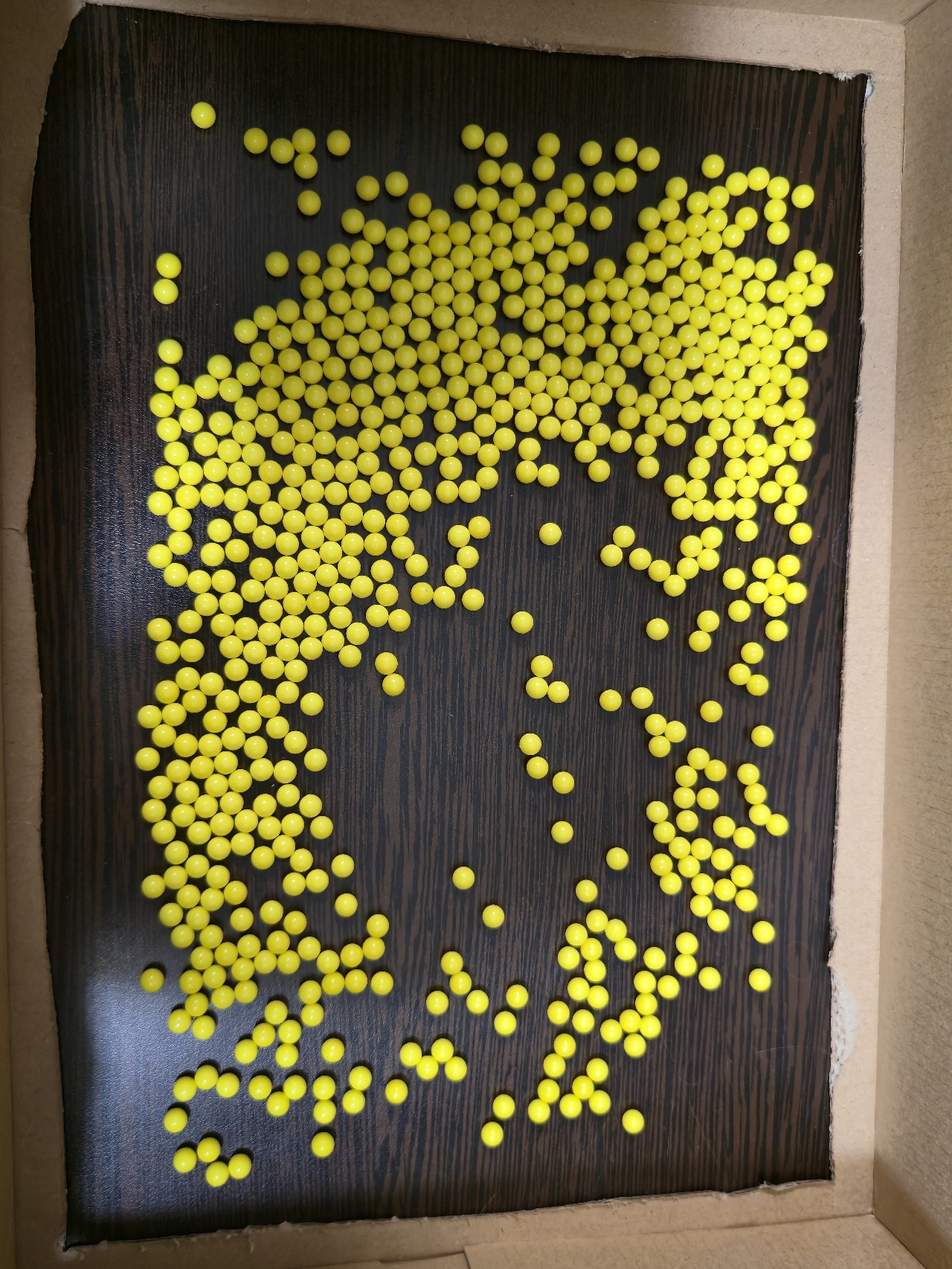yellow_bead: (199, 437, 213, 451), (153, 497, 167, 510), (184, 414, 198, 427), (279, 765, 292, 778), (206, 548, 219, 561), (170, 447, 183, 460), (213, 524, 226, 536), (173, 513, 186, 525), (206, 489, 219, 501), (184, 467, 197, 479), (260, 419, 273, 431), (214, 417, 227, 429), (200, 380, 212, 393), (160, 373, 173, 385), (213, 361, 226, 373), (237, 426, 251, 437), (754, 974, 766, 986), (200, 598, 212, 610), (218, 575, 230, 587), (234, 467, 246, 479), (730, 463, 742, 475), (209, 463, 221, 475), (223, 445, 235, 457), (810, 335, 822, 347), (628, 1115, 639, 1128), (564, 952, 575, 965), (170, 568, 183, 579), (797, 190, 808, 203), (173, 537, 187, 547), (704, 972, 715, 984), (649, 952, 660, 964), (759, 926, 770, 938), (713, 915, 724, 927), (337, 860, 349, 871), (305, 800, 316, 812), (306, 698, 318, 709), (193, 576, 205, 587), (635, 553, 646, 565), (741, 525, 753, 536), (230, 493, 241, 505), (181, 490, 193, 501), (765, 486, 776, 498), (317, 464, 329, 475), (248, 449, 260, 460), (240, 402, 251, 414), (816, 269, 828, 280), (579, 1015, 589, 1028), (794, 528, 807, 538), (472, 995, 483, 1006), (571, 929, 582, 940), (458, 873, 469, 884), (717, 854, 728, 865), (612, 853, 623, 864), (652, 806, 663, 817), (734, 605, 745, 616), (758, 563, 769, 574), (454, 530, 465, 541), (545, 528, 556, 539), (791, 489, 802, 500), (782, 470, 793, 481), (701, 441, 712, 452), (714, 423, 725, 434), (754, 370, 765, 381), (243, 368, 254, 379), (800, 255, 811, 266), (681, 938, 693, 948), (592, 915, 602, 927), (489, 910, 499, 922), (582, 885, 592, 897), (740, 832, 750, 844), (557, 826, 567, 838), (194, 826, 204, 838), (283, 789, 295, 799), (728, 574, 740, 584), (780, 509, 792, 519), (306, 485, 318, 495), (773, 286, 783, 298), (239, 515, 252, 524), (500, 1017, 511, 1027), (681, 961, 692, 971), (303, 942, 314, 952), (698, 879, 708, 890), (697, 844, 707, 855), (720, 821, 730, 832), (743, 769, 754, 779), (525, 739, 536, 749), (637, 693, 648, 703), (537, 661, 547, 672), (652, 624, 663, 634), (770, 601, 781, 611), (704, 554, 714, 565), (606, 550, 617, 560), (686, 541, 697, 551), (619, 531, 629, 542), (289, 515, 300, 525), (742, 482, 753, 492), (693, 463, 704, 473), (643, 462, 654, 472), (446, 462, 457, 472), (771, 449, 781, 460), (524, 443, 535, 453), (800, 423, 810, 434), (739, 423, 750, 433), (545, 422, 555, 433), (521, 415, 532, 425), (585, 408, 596, 418), (750, 403, 760, 414), (708, 402, 718, 413), (739, 384, 750, 394), (240, 326, 250, 337), (810, 290, 820, 301), (163, 284, 173, 295), (740, 263, 750, 274), (773, 182, 784, 192), (312, 875, 324, 884), (289, 736, 301, 745), (281, 643, 293, 652), (306, 643, 318, 652), (153, 623, 165, 632), (335, 611, 347, 620), (335, 588, 347, 597), (153, 553, 165, 562), (283, 492, 295, 501), (253, 486, 265, 495), (640, 440, 652, 449), (576, 983, 584, 996), (271, 722, 284, 730), (258, 531, 271, 539), (621, 945, 631, 955), (297, 854, 307, 864), (216, 818, 226, 828), (755, 810, 765, 820), (682, 771, 692, 781), (748, 648, 758, 658), (518, 617, 528, 627), (704, 616, 714, 626), (792, 588, 802, 598), (753, 588, 763, 598), (707, 533, 717, 543), (741, 504, 751, 514), (377, 477, 387, 487), (160, 472, 170, 482), (753, 462, 763, 472), (752, 440, 762, 450), (320, 437, 330, 447), (595, 428, 605, 438), (567, 425, 577, 435), (462, 403, 472, 413), (561, 402, 571, 412), (719, 383, 729, 393), (732, 178, 742, 188), (356, 1074, 365, 1085), (666, 981, 675, 992), (236, 913, 247, 922), (696, 902, 707, 911), (744, 895, 753, 906), (289, 878, 300, 887), (739, 870, 748, 881), (192, 860, 203, 869), (683, 815, 692, 826), (228, 733, 239, 742), (672, 726, 681, 737), (345, 650, 356, 659), (352, 628, 363, 637), (241, 623, 252, 632), (672, 580, 681, 591), (684, 563, 693, 574), (700, 505, 709, 516), (721, 504, 730, 515), (415, 494, 426, 503), (363, 457, 374, 466), (420, 448, 431, 457), (797, 445, 806, 456), (730, 403, 739, 414), (168, 345, 177, 356), (758, 330, 767, 341), (798, 321, 807, 332), (773, 312, 782, 323), (792, 277, 803, 286), (753, 173, 764, 182), (597, 1097, 605, 1109), (440, 1044, 448, 1056), (322, 956, 334, 964), (213, 843, 225, 851), (278, 841, 290, 849), (237, 838, 249, 846), (259, 800, 271, 808), (256, 764, 268, 772), (282, 687, 294, 695), (290, 665, 302, 673), (187, 644, 199, 652), (225, 597, 237, 605), (344, 562, 356, 570), (303, 554, 315, 562), (282, 538, 294, 546), (307, 531, 319, 539), (244, 686, 257, 693), (166, 908, 176, 917), (666, 880, 676, 889), (676, 842, 685, 852), (659, 827, 669, 836), (288, 819, 298, 828), (679, 794, 689, 803), (559, 777, 569, 786), (759, 731, 768, 741), (652, 719, 661, 729), (469, 594, 479, 603), (440, 591, 450, 600), (678, 504, 688, 513), (331, 487, 341, 496), (672, 481, 681, 491), (544, 469, 554, 478), (581, 446, 591, 455), (731, 442, 740, 452), (442, 439, 452, 448), (617, 436, 626, 446), (387, 430, 397, 439), (770, 411, 779, 421), (284, 405, 294, 414), (515, 392, 525, 401), (547, 359, 556, 369), (746, 350, 755, 360), (705, 337, 714, 347), (738, 324, 747, 334), (753, 309, 762, 319), (750, 286, 760, 295), (762, 264, 771, 274), (730, 230, 739, 240), (771, 205, 781, 214), (606, 1029, 617, 1037), (613, 925, 621, 936), (266, 906, 277, 914), (341, 899, 352, 907), (316, 821, 327, 829), (240, 815, 251, 823), (221, 756, 232, 764), (310, 754, 321, 762), (226, 641, 237, 649), (372, 610, 383, 618), (483, 420, 491, 431), (577, 385, 585, 396), (700, 378, 708, 389), (210, 780, 222, 787), (205, 678, 217, 685), (286, 621, 298, 628), (594, 1064, 603, 1073), (201, 800, 210, 809), (184, 672, 193, 681), (736, 669, 745, 678), (773, 626, 782, 635), (466, 486, 475, 495), (356, 485, 365, 494), (343, 466, 352, 475), (366, 434, 375, 443), (791, 405, 800, 414), (538, 399, 547, 408), (598, 388, 607, 397), (794, 382, 803, 391), (715, 192, 724, 201), (536, 1107, 544, 1117), (408, 1050, 416, 1060), (170, 846, 180, 854), (183, 786, 193, 794), (533, 762, 543, 770), (655, 742, 665, 750), (205, 739, 215, 747), (244, 716, 254, 724), (144, 710, 154, 718), (311, 620, 321, 628), (218, 619, 228, 627), (395, 614, 405, 622), (299, 577, 309, 585), (655, 565, 665, 573), (412, 560, 422, 568), (398, 542, 408, 550), (348, 539, 358, 547), (347, 508, 357, 516), (393, 495, 403, 503), (693, 485, 701, 495), (483, 472, 493, 480), (689, 406, 697, 416), (500, 405, 508, 415), (726, 343, 734, 353), (260, 312, 270, 320), (596, 991, 603, 1002), (379, 977, 386, 988), (776, 820, 783, 831), (141, 753, 152, 760), (695, 636, 706, 643), (265, 605, 276, 612), (356, 581, 367, 588), (686, 330, 693, 341), (164, 259, 171, 270), (201, 1026, 210, 1034), (274, 1010, 282, 1019), (437, 996, 443, 1008), (593, 967, 601, 976), (148, 880, 156, 889), (170, 873, 179, 881), (214, 870, 223, 878), (265, 823, 274, 831), (155, 781, 164, 789), (237, 774, 245, 783), (695, 754, 704, 762), (169, 708, 178, 716), (607, 695, 616, 703), (407, 473, 416, 481), (502, 434, 510, 443), (390, 401, 398, 410), (644, 399, 652, 408), (768, 389, 776, 398), (681, 385, 689, 394), (382, 379, 390, 388), (501, 377, 509, 386), (591, 367, 599, 376), (516, 361, 524, 370), (729, 280, 737, 289), (648, 1023, 655, 1033), (206, 895, 216, 902), (688, 862, 695, 872), (158, 826, 168, 833), (178, 810, 188, 817), (148, 806, 158, 813), (707, 707, 717, 714), (223, 695, 233, 702), (268, 662, 278, 669), (184, 616, 194, 623), (383, 589, 393, 596), (282, 562, 292, 569), (369, 515, 379, 522), (523, 466, 533, 473), (277, 437, 287, 444), (674, 364, 681, 374), (634, 1041, 640, 1052), (272, 585, 283, 591), (376, 569, 387, 575), (462, 555, 473, 561), (469, 437, 475, 448), (454, 1067, 462, 1075), (244, 940, 252, 948), (208, 931, 216, 939), (384, 658, 392, 666), (290, 597, 298, 605), (398, 452, 406, 460), (302, 449, 310, 457), (673, 429, 681, 437), (300, 425, 308, 433), (370, 412, 378, 420), (533, 377, 541, 385), (660, 321, 668, 329), (722, 255, 730, 263), (709, 237, 717, 245), (666, 204, 674, 212), (285, 1054, 292, 1063), (309, 1012, 318, 1019), (390, 679, 399, 686), (164, 646, 173, 653), (346, 442, 353, 451), (669, 405, 676, 414), (625, 390, 632, 399), (292, 382, 299, 391), (556, 381, 563, 390), (653, 359, 660, 368), (369, 336, 376, 345), (301, 326, 308, 335), (698, 312, 705, 321), (313, 306, 320, 315), (504, 1101, 509, 1113), (222, 1085, 234, 1090), (451, 957, 457, 967), (313, 509, 323, 515), (693, 353, 699, 363), (405, 351, 411, 361), (673, 282, 679, 292), (321, 1111, 328, 1119), (643, 980, 651, 987), (194, 913, 202, 920), (659, 859, 666, 867), (174, 765, 182, 772), (233, 664, 241, 671), (788, 560, 795, 568), (445, 486, 453, 493), (392, 332, 399, 340), (286, 306, 293, 314), (180, 1161, 189, 1167), (559, 1011, 565, 1020), (376, 919, 382, 928), (233, 544, 242, 550), (331, 524, 340, 530), (393, 519, 402, 525), (415, 399, 421, 408), (315, 391, 321, 400), (532, 344, 538, 353), (511, 339, 517, 348), (648, 338, 654, 347), (180, 931, 187, 938), (755, 790, 762, 797), (477, 521, 484, 528), (268, 466, 275, 473), (598, 465, 605, 472), (309, 369, 316, 376), (382, 357, 389, 364), (399, 311, 406, 318), (333, 274, 340, 281), (356, 272, 363, 279), (745, 213, 752, 220), (464, 191, 471, 198), (675, 183, 682, 190), (511, 170, 518, 177), (589, 148, 596, 155), (570, 1105, 576, 1113), (351, 1101, 359, 1107), (160, 730, 168, 736), (445, 417, 451, 425), (660, 382, 666, 390), (359, 364, 367, 370), (713, 359, 719, 367), (640, 316, 646, 324), (442, 313, 448, 321), (678, 309, 684, 317), (423, 301, 429, 309), (672, 252, 678, 260), (648, 153, 654, 161), (371, 539, 380, 544), (412, 420, 417, 429), (607, 349, 612, 358), (348, 342, 353, 351), (356, 317, 361, 326), (422, 274, 427, 283), (171, 425, 175, 436), (492, 1133, 498, 1140), (287, 1031, 293, 1038), (707, 794, 713, 801), (756, 680, 763, 686), (775, 579, 782, 585), (259, 563, 265, 570), (486, 449, 493, 455), (475, 370, 481, 377), (489, 287, 495, 294), (634, 272, 640, 279), (655, 267, 661, 274), (625, 144, 632, 150), (170, 1119, 178, 1124), (518, 991, 523, 999), (185, 893, 193, 898), (656, 420, 661, 428), (486, 391, 491, 399), (457, 382, 462, 390), (534, 315, 539, 323), (639, 294, 644, 302), (339, 252, 344, 260), (524, 248, 529, 256), (649, 213, 654, 221), (244, 1052, 250, 1058), (726, 887, 730, 896), (260, 852, 266, 858), (184, 739, 190, 745), (452, 575, 461, 579), (616, 371, 620, 380), (318, 347, 324, 353), (466, 325, 472, 331), (659, 300, 665, 306), (695, 290, 699, 299), (402, 287, 408, 293), (553, 280, 559, 286), (463, 277, 469, 283), (637, 249, 643, 255), (543, 164, 549, 170), (437, 395, 444, 400), (407, 377, 412, 384), (290, 355, 295, 362), (575, 341, 580, 348), (420, 327, 425, 334), (600, 309, 605, 316), (558, 258, 563, 265), (353, 216, 358, 223), (713, 161, 718, 168), (290, 475, 298, 479), (364, 295, 368, 303), (535, 292, 539, 300), (712, 274, 716, 282), (293, 1087, 298, 1093), (212, 974, 218, 979), (263, 958, 268, 964), (201, 954, 206, 960), (716, 765, 721, 771), (200, 762, 205, 768), (257, 745, 262, 751), (164, 686, 170, 691), (254, 588, 260, 593), (632, 353, 637, 359), (484, 312, 490, 317), (716, 298, 721, 304), (618, 286, 623, 292), (276, 260, 281, 266), (399, 259, 404, 265), (361, 249, 367, 254), (699, 199, 704, 205), (396, 179, 402, 184), (288, 958, 292, 965), (557, 693, 564, 697), (623, 331, 627, 338), (721, 321, 725, 328), (556, 306, 560, 313), (555, 1064, 560, 1069), (592, 947, 597, 952), (538, 687, 543, 692), (269, 632, 274, 637), (629, 414, 634, 419), (155, 399, 160, 404), (280, 335, 285, 340), (464, 302, 469, 307), (443, 291, 448, 296), (443, 267, 448, 272), (420, 229, 425, 234), (338, 139, 343, 144), (322, 1086, 326, 1092), (648, 1003, 652, 1009), (222, 994, 226, 1000), (309, 989, 313, 995), (462, 979, 466, 985), (254, 651, 260, 655), (449, 336, 453, 342), (556, 332, 560, 338), (515, 303, 519, 309), (463, 254, 467, 260), (421, 254, 425, 260), (773, 231, 776, 239), (483, 219, 487, 225), (558, 196, 562, 202), (526, 190, 530, 196), (426, 1067, 429, 1074), (181, 391, 188, 394), (576, 291, 579, 298), (282, 147, 285, 154), (318, 597, 322, 602), (348, 411, 353, 415), (364, 393, 368, 398), (260, 352, 265, 356), (429, 349, 433, 354), (381, 277, 386, 281), (482, 242, 486, 247), (544, 240, 548, 245), (525, 226, 529, 231), (545, 216, 549, 221), (602, 216, 606, 221), (498, 141, 502, 146), (236, 887, 239, 893), (693, 245, 696, 251), (243, 968, 247, 972), (335, 639, 339, 643), (490, 335, 494, 339), (535, 271, 539, 275), (579, 250, 583, 254), (474, 134, 478, 138), (152, 977, 155, 982), (295, 916, 298, 921), (194, 696, 197, 701), (573, 364, 576, 369), (453, 362, 456, 367), (341, 301, 344, 306), (503, 232, 506, 237), (606, 180, 609, 185), (628, 176, 631, 181), (199, 108, 206, 110), (631, 1019, 634, 1023), (353, 951, 355, 957), (235, 800, 238, 804), (248, 651, 252, 654), (164, 423, 170, 425), (324, 416, 327, 420), (495, 359, 499, 362), (473, 350, 477, 353), (596, 332, 599, 336), (692, 269, 696, 272), (504, 254, 506, 260), (699, 222, 701, 228), (490, 196, 493, 200), (304, 138, 308, 141), (598, 287, 600, 292), (565, 231, 567, 236), (321, 1145, 324, 1148), (373, 945, 376, 948), (263, 632, 266, 635), (340, 390, 343, 393), (431, 374, 434, 377), (335, 367, 338, 370), (379, 317, 382, 320), (441, 219, 444, 222), (491, 169, 494, 172), (307, 164, 310, 167), (550, 141, 553, 144), (268, 513, 272, 515), (168, 356, 172, 358), (514, 279, 518, 281), (243, 1166, 245, 1169), (333, 1050, 335, 1053), (419, 588, 421, 591), (672, 347, 675, 349), (398, 237, 400, 240), (722, 483, 727, 484), (236, 388, 237, 393), (249, 746, 251, 748), (298, 473, 300, 475), (733, 364, 736, 365), (782, 333, 785, 334), (311, 202, 312, 205), (576, 184, 579, 185), (279, 942, 281, 943), (333, 552, 335, 553), (269, 398, 271, 399), (188, 395, 190, 396), (225, 386, 226, 388), (310, 263, 312, 264), (376, 231, 378, 232), (278, 940, 279, 941), (327, 639, 328, 640), (274, 631, 275, 632), (247, 589, 248, 590), (325, 550, 326, 551), (276, 511, 277, 512), (791, 355, 792, 356), (796, 352, 797, 353), (771, 350, 772, 351), (780, 334, 781, 335), (623, 311, 624, 312), (736, 302, 737, 303), (798, 300, 799, 301), (679, 231, 680, 232), (780, 227, 781, 228), (370, 187, 371, 188), (247, 992, 248, 992), (234, 804, 234, 805), (532, 687, 533, 687), (329, 576, 330, 576), (387, 569, 387, 570), (266, 511, 266, 513), (720, 486, 721, 486), (788, 431, 788, 432), (784, 431, 787, 431), (178, 395, 178, 396), (780, 370, 782, 370), (335, 327, 335, 328), (166, 298, 167, 298), (202, 121, 202, 122)
